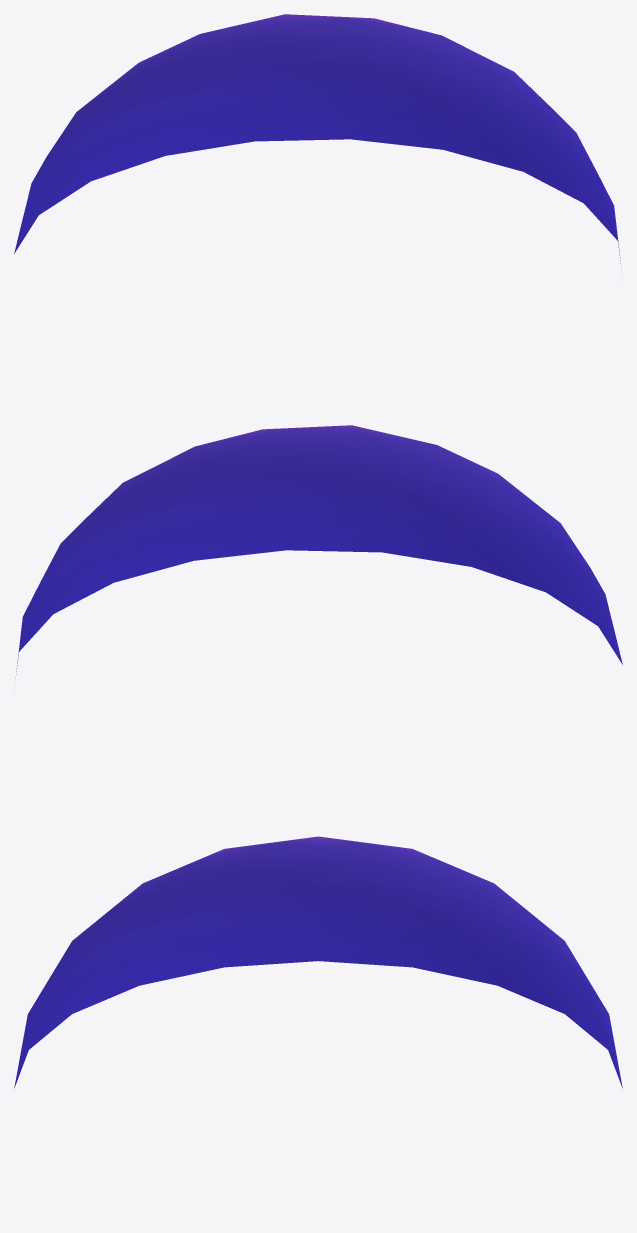
File: SKYDOME.glb
3 views of the same model, one above another, from view 1: azimuth 30°, elevation 25°; view 2: azimuth 150°, elevation 25°; view 3: azimuth 270°, elevation 25° (orthographic).
Visible parts, largest first — view 1: SKYDOME; view 2: SKYDOME; view 3: SKYDOME.
Part boxes in pixels (x1,y1,x2,y2): SKYDOME: (14,14,622,274); SKYDOME: (14,425,622,685); SKYDOME: (14,836,622,1087).
Size of the model in its own units: 104 by 41.43 by 104.
1 material, 1 textured.
